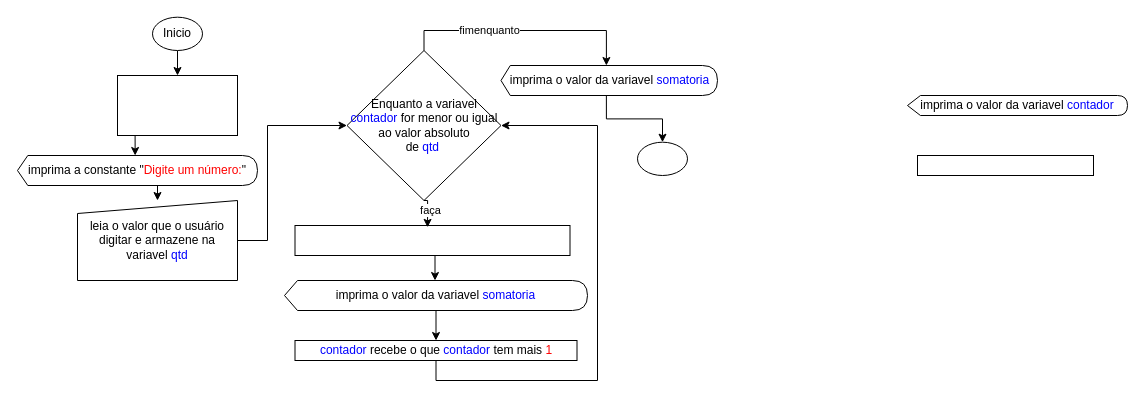
The diagram is 1145 pixels wide and 407 high, and some of its shapes have lost their labels. The shapes that lost their labels are listed below. From the top down, each one's centre as x and y in pixels, then its label:
At point 177,105: "Crie uma variavel com nome contador que inicia com 1".
At point 662,158: "Fim".
At point 1005,165: "contador recebe contador + 1".
At point 432,240: "somatoria recebe o que somatoria tem mais contador".
